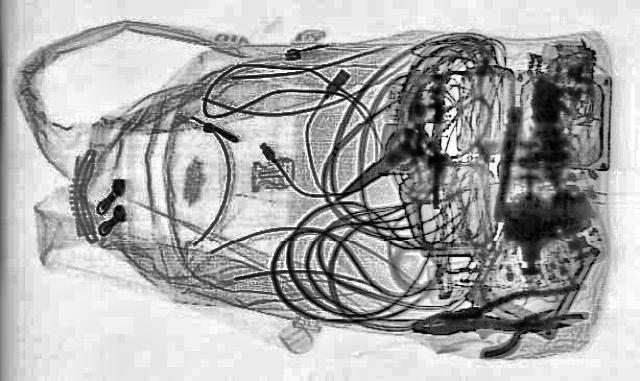Pliers: (398, 281, 598, 347)
